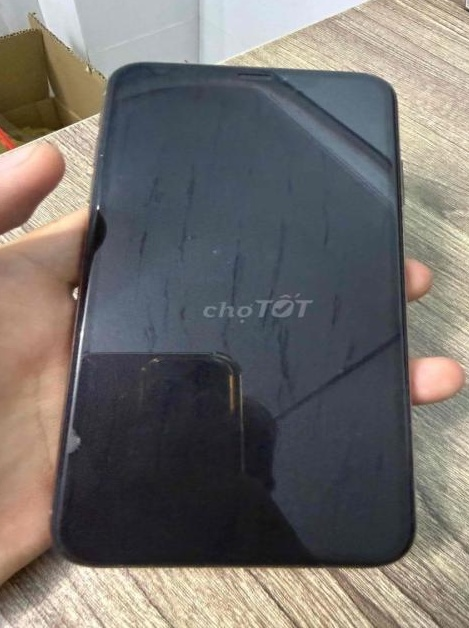physical_damage: (48, 410, 102, 474)
scratch: (83, 132, 125, 236)
